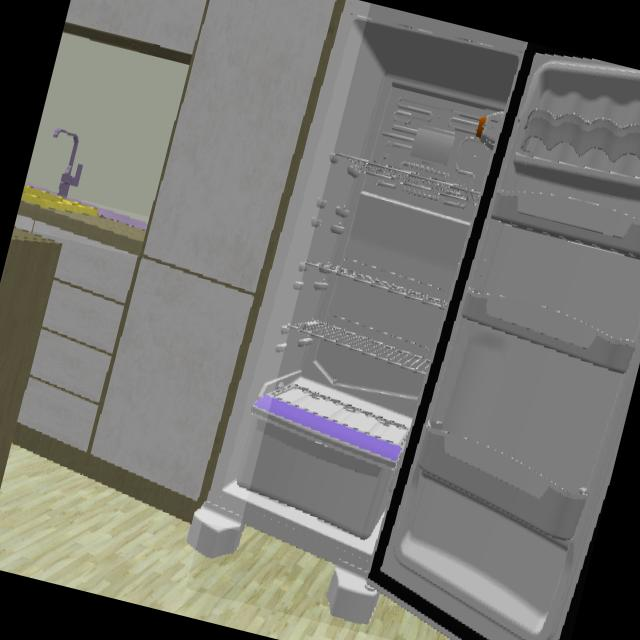cabinet: (17, 0, 370, 518)
countertop: (16, 186, 146, 256)
fridge: (206, 0, 640, 640)
sink: (19, 186, 96, 215)
